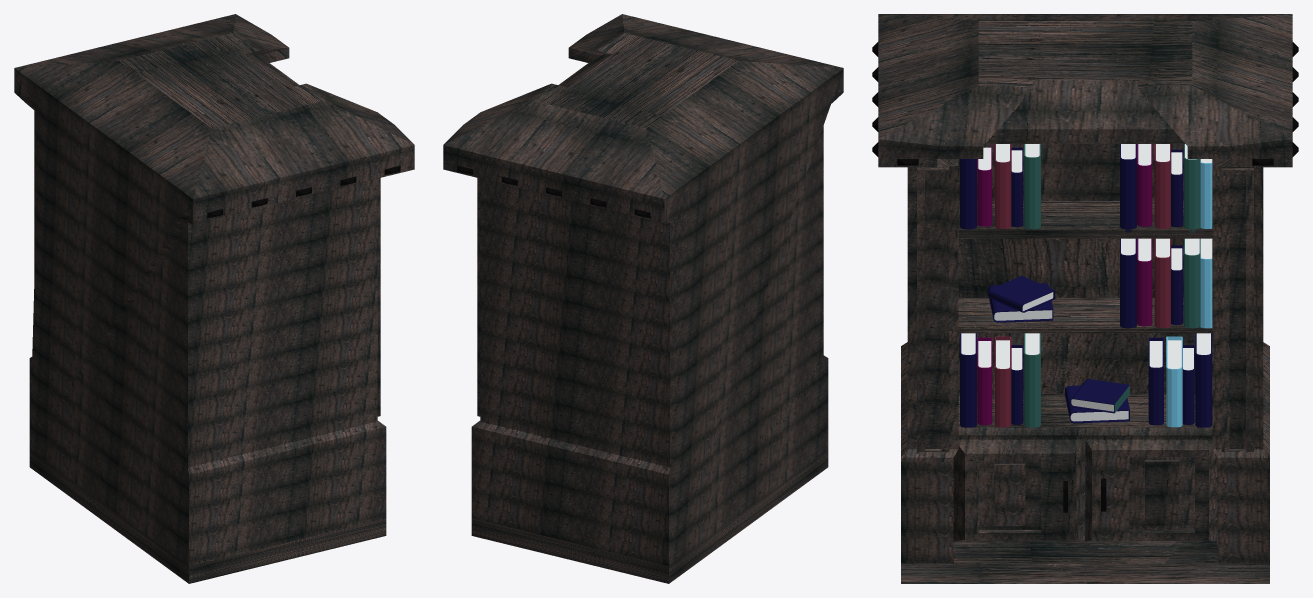
The model's file is Shwlf.fbx.
The picture shows the model from 3 angles, left to right: view 1: azimuth 30°, elevation 25°; view 2: azimuth 150°, elevation 25°; view 3: azimuth 270°, elevation 25°; orthographic projection. The views are drawn at different scales.
Parts seen in each view (by area): view 1: Cube; view 2: Cube; view 3: Cube.
Part boxes in pixels (bbox=[...]): Cube: bbox=[14, 14, 414, 583]; Cube: bbox=[443, 14, 843, 583]; Cube: bbox=[872, 14, 1298, 583].
Size of the model in its own units: 204 by 355 by 283.
